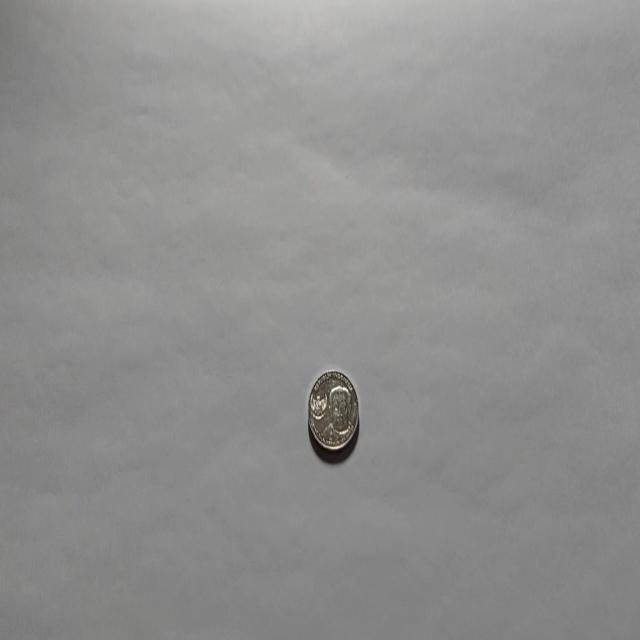seratus rupiah: (306, 368, 359, 453)
